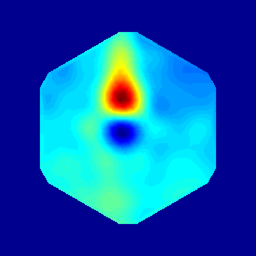ship: (113, 112, 133, 146)
wave: (114, 54, 132, 118)
